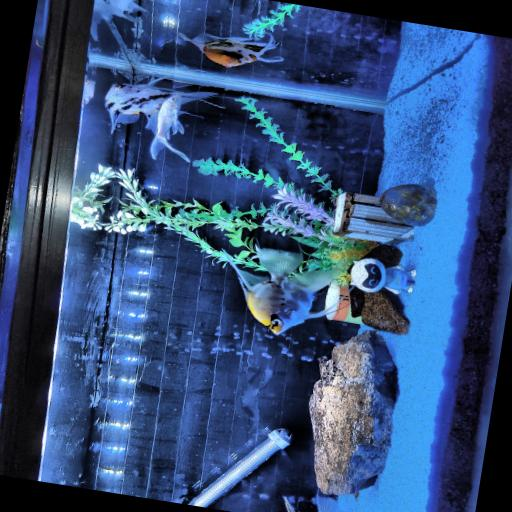Fish: (232, 247, 340, 335), (105, 78, 215, 131), (179, 34, 283, 67), (146, 94, 190, 162), (91, 0, 146, 50), (316, 491, 339, 511), (83, 77, 95, 104)
